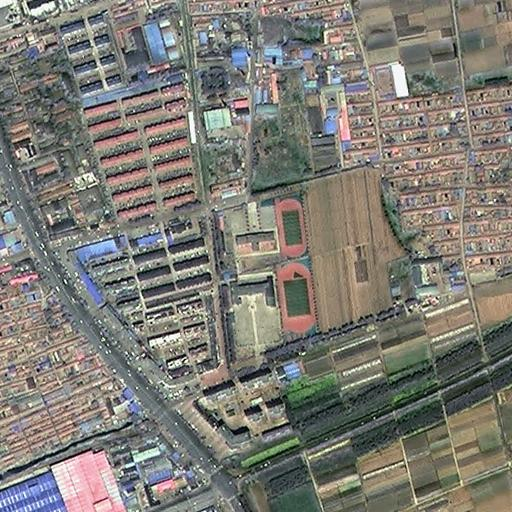school: (222, 259, 318, 348), (212, 186, 311, 262)
